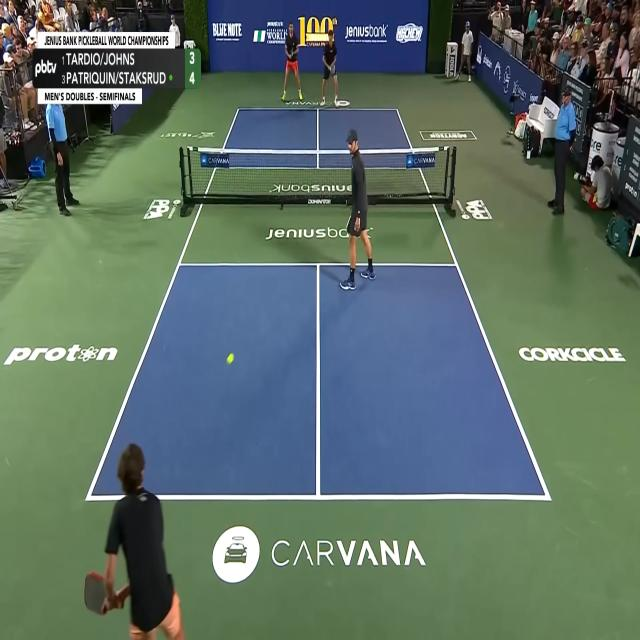ball: (226, 352, 234, 365)
